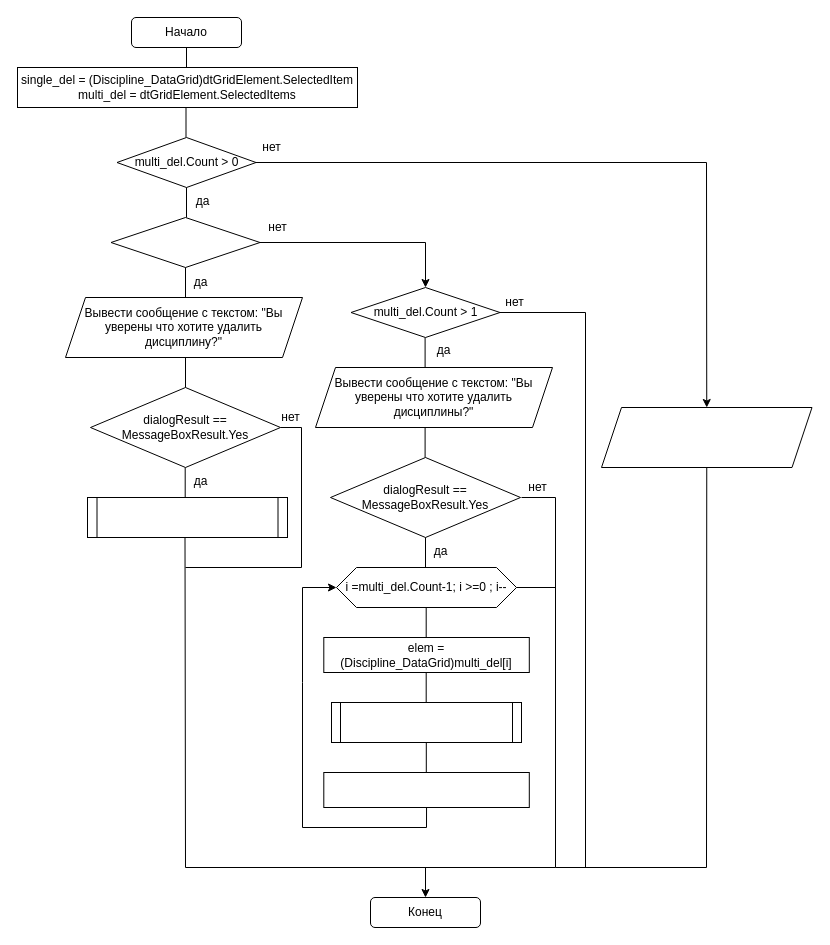
The diagram is 830 pixels wide and 945 high, and some of its shapes have lost their labels. Each missing label, with the box of its shape:
disciplines.Remove( (Discipline_DataGrid)multi_del[i]): (323, 772, 529, 808)
multi_del.Count == 1: (110, 216, 260, 268)
Sql.DelDiscp(elem.IdDiscp): (330, 702, 522, 742)
Sql.DelDiscp(single_cell.IdDiscp): (86, 496, 288, 538)
Вывести сообщение с текстом: "Выберите строку для удаления!": (600, 406, 812, 468)
